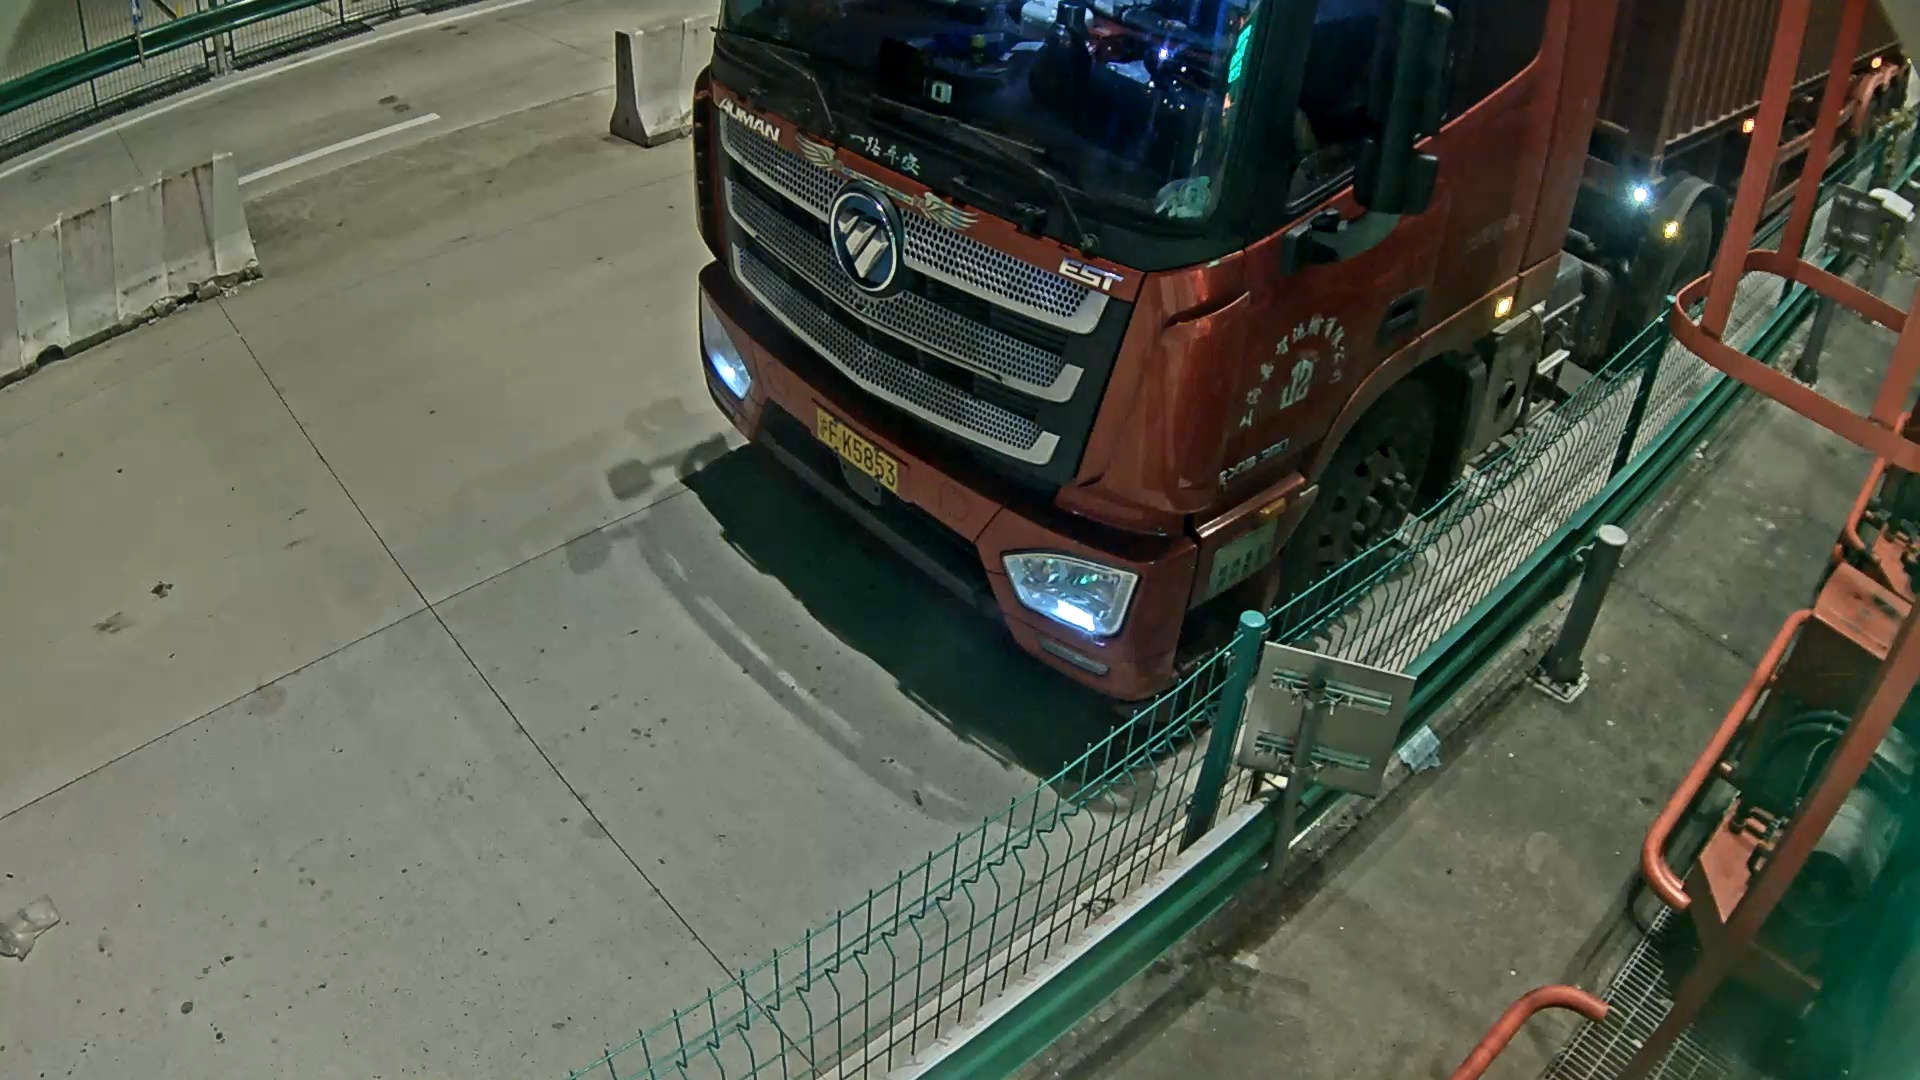head: (699, 1, 1632, 691)
plate: (817, 407, 898, 490)
